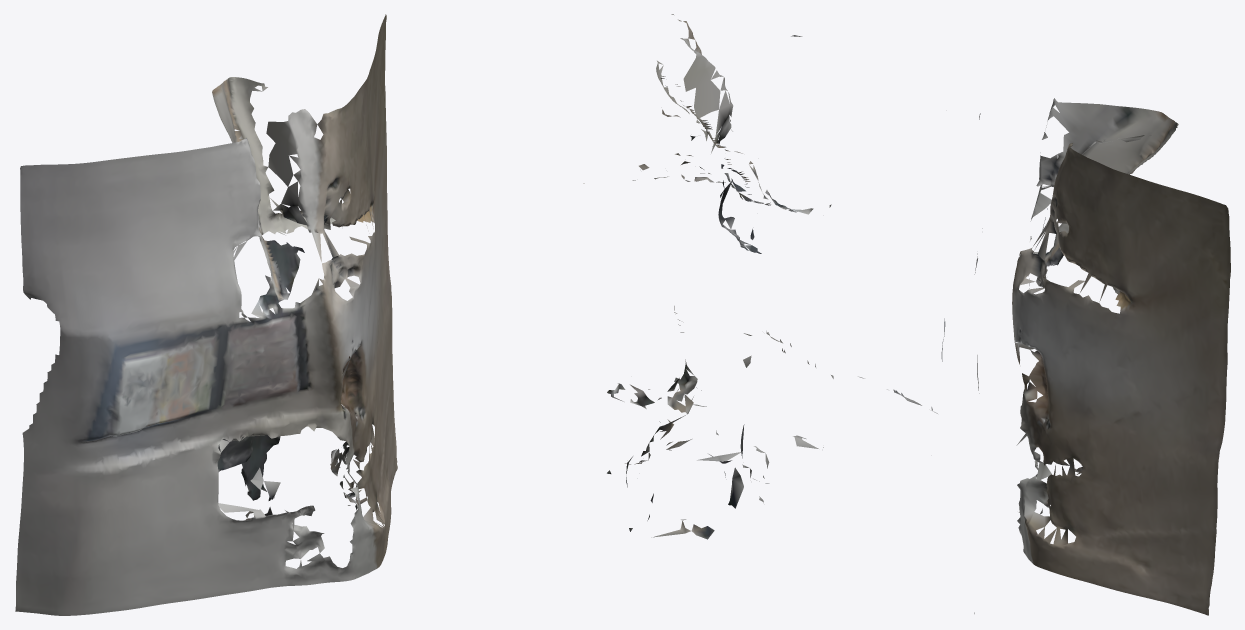
File: mesh_f0dcce8b005a.glb
3 renders of one model, left to right at view 1: azimuth 30°, elevation 25°; view 2: azimuth 150°, elevation 25°; view 3: azimuth 270°, elevation 25°, orthographic. The views are drawn at different scales.
Bounding box in the file's own units: 0.9984 × 0.9938 × 0.4806.
